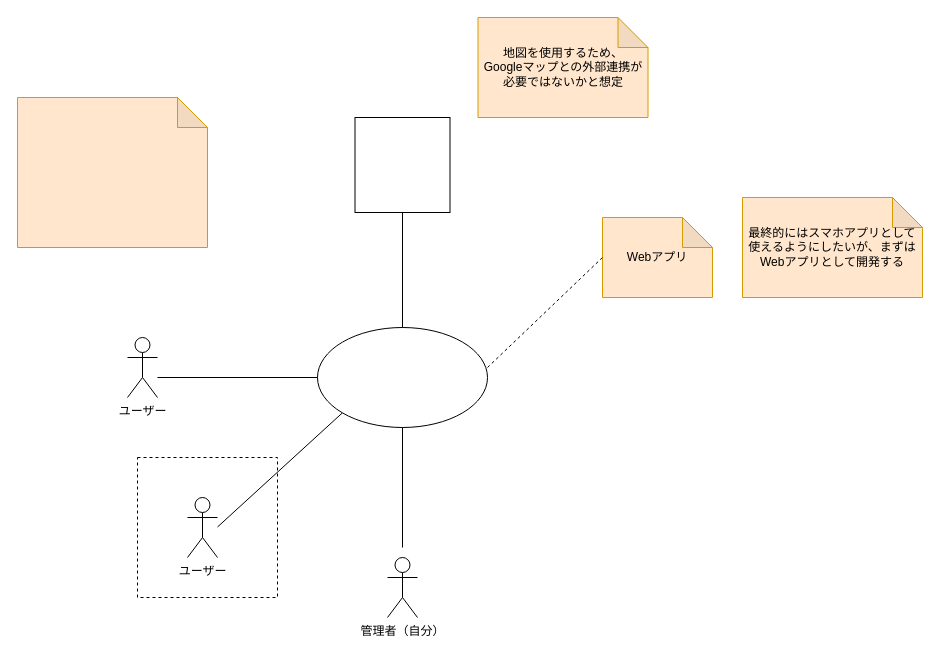
The diagram is 940 pixels wide and 656 high, and some of its shapes have lost their labels. Here are the shapes that lost their labels. From the top down, the centre of each, then its label:
At point (112, 172): "将来的には、他のユーザーとのやり取りができるようにしたいが、 初回リリースでは、1人で使用できる範囲の実装を行う".
At point (402, 377): "くるまのあしあと アプリケーション".
